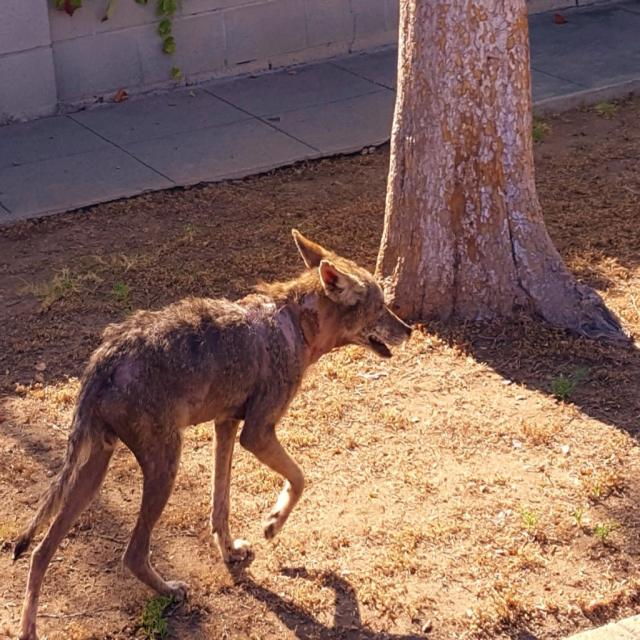Coyote: (11, 219, 412, 633)
